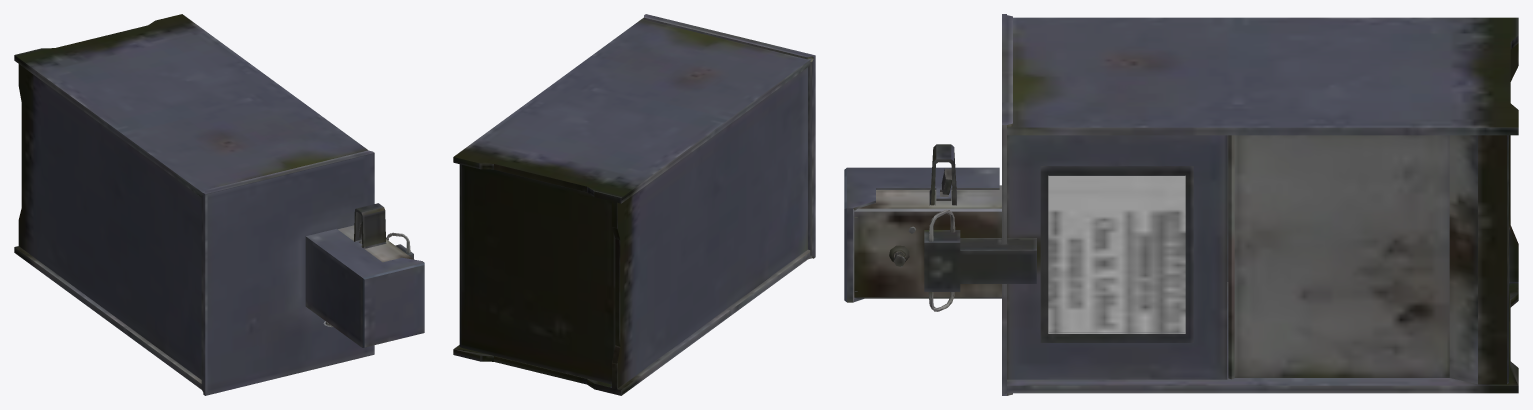
Rendered from newsbox.glb.
The picture shows the model from 3 angles, left to right: view 1: azimuth 30°, elevation 25°; view 2: azimuth 150°, elevation 25°; view 3: azimuth 270°, elevation 25°; orthographic projection. The views are drawn at different scales.
Visible parts, largest first — view 1: Object_2; view 2: Object_2; view 3: Object_2.
Part boxes in pixels (x1,y1,x2,y2): Object_2: (14,14,424,395); Object_2: (453,14,815,395); Object_2: (844,14,1518,395).
Size of the model in its own units: 1.03 by 1.1 by 2.48.
Materials: 2 (2 with a texture image).
